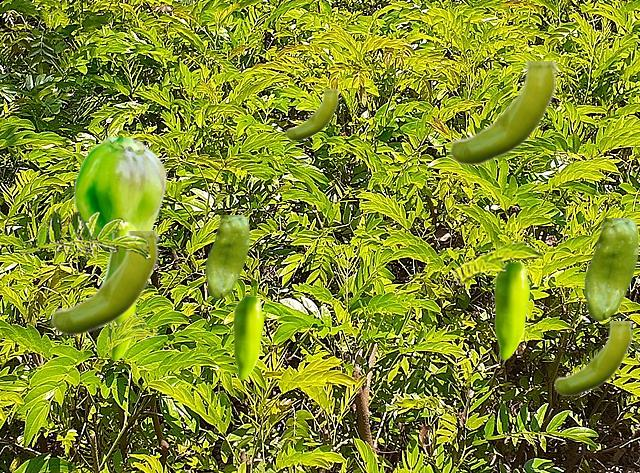green_chili: (448, 61, 557, 163), (50, 231, 159, 333), (73, 137, 166, 238), (553, 321, 632, 394), (584, 218, 637, 320), (205, 215, 248, 298), (494, 262, 528, 359), (285, 89, 338, 139), (233, 296, 262, 379), (100, 222, 138, 284), (107, 307, 134, 360)
